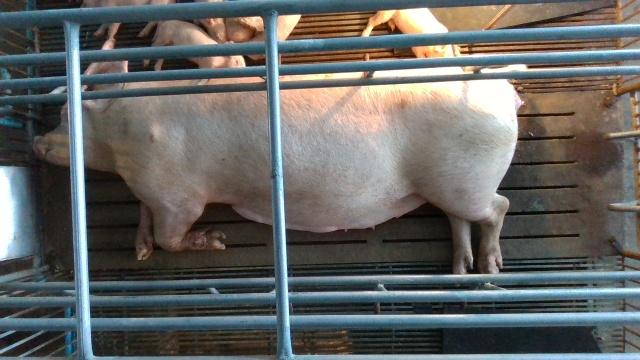piglet: (361, 8, 461, 58), (143, 21, 245, 68)
sow-sleep-lactate: (34, 61, 523, 272)
